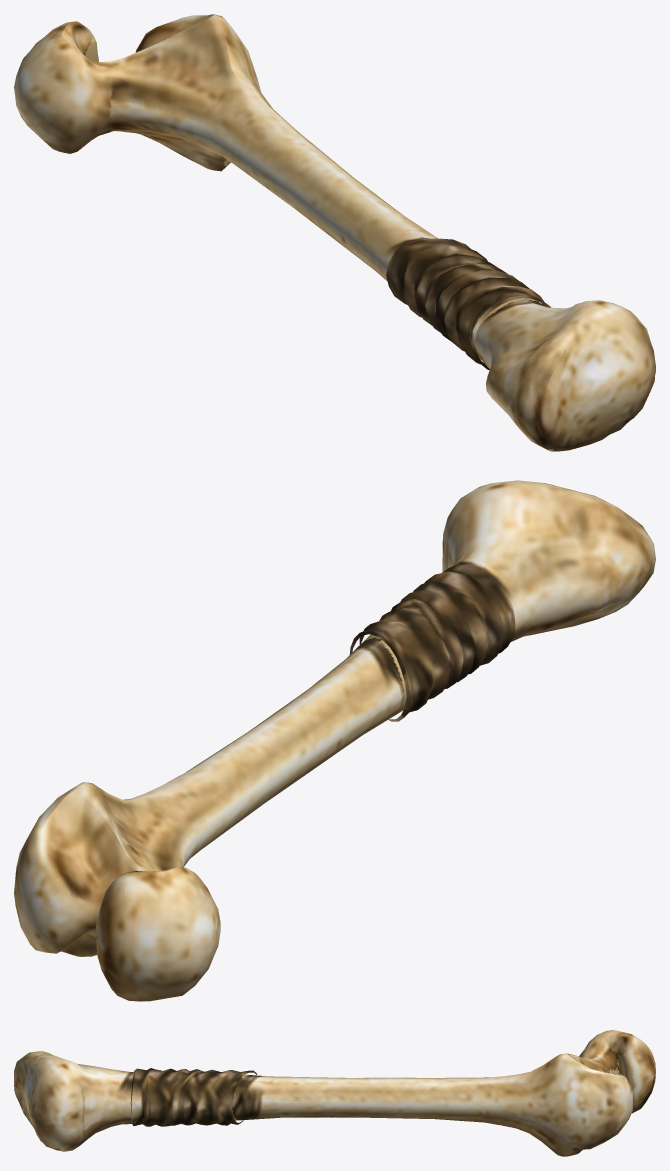
File: item_mm9_10066.glb
3 renders of one model, top to bottom at view 1: azimuth 30°, elevation 25°; view 2: azimuth 150°, elevation 25°; view 3: azimuth 270°, elevation 25°, orthographic. The views are drawn at different scales.
Visible parts, largest first — view 1: d10066; view 2: d10066; view 3: d10066.
Part boxes in pixels (left/top/right/bottom): d10066: left=14, top=14, right=655, bottom=451; d10066: left=14, top=480, right=655, bottom=1001; d10066: left=14, top=1030, right=655, bottom=1156.
Bounding box in the file's own units: 0.249 × 0.1764 × 1.
1 material, 1 textured.
